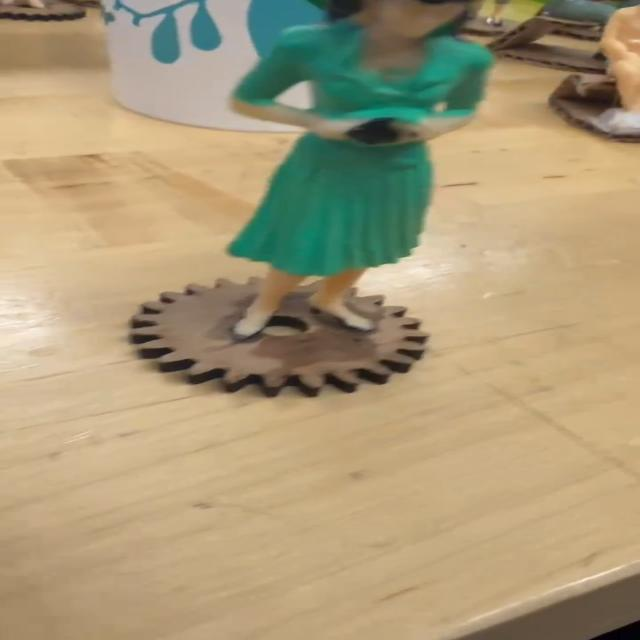Authorized: (242, 0, 527, 435)
